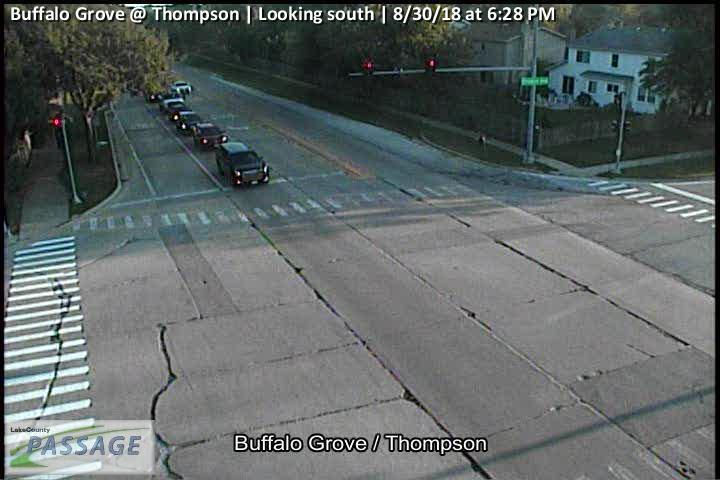SUV: (215, 143, 269, 184)
Sedan: (193, 123, 228, 151), (176, 112, 200, 133), (167, 101, 189, 118), (173, 80, 191, 95)
